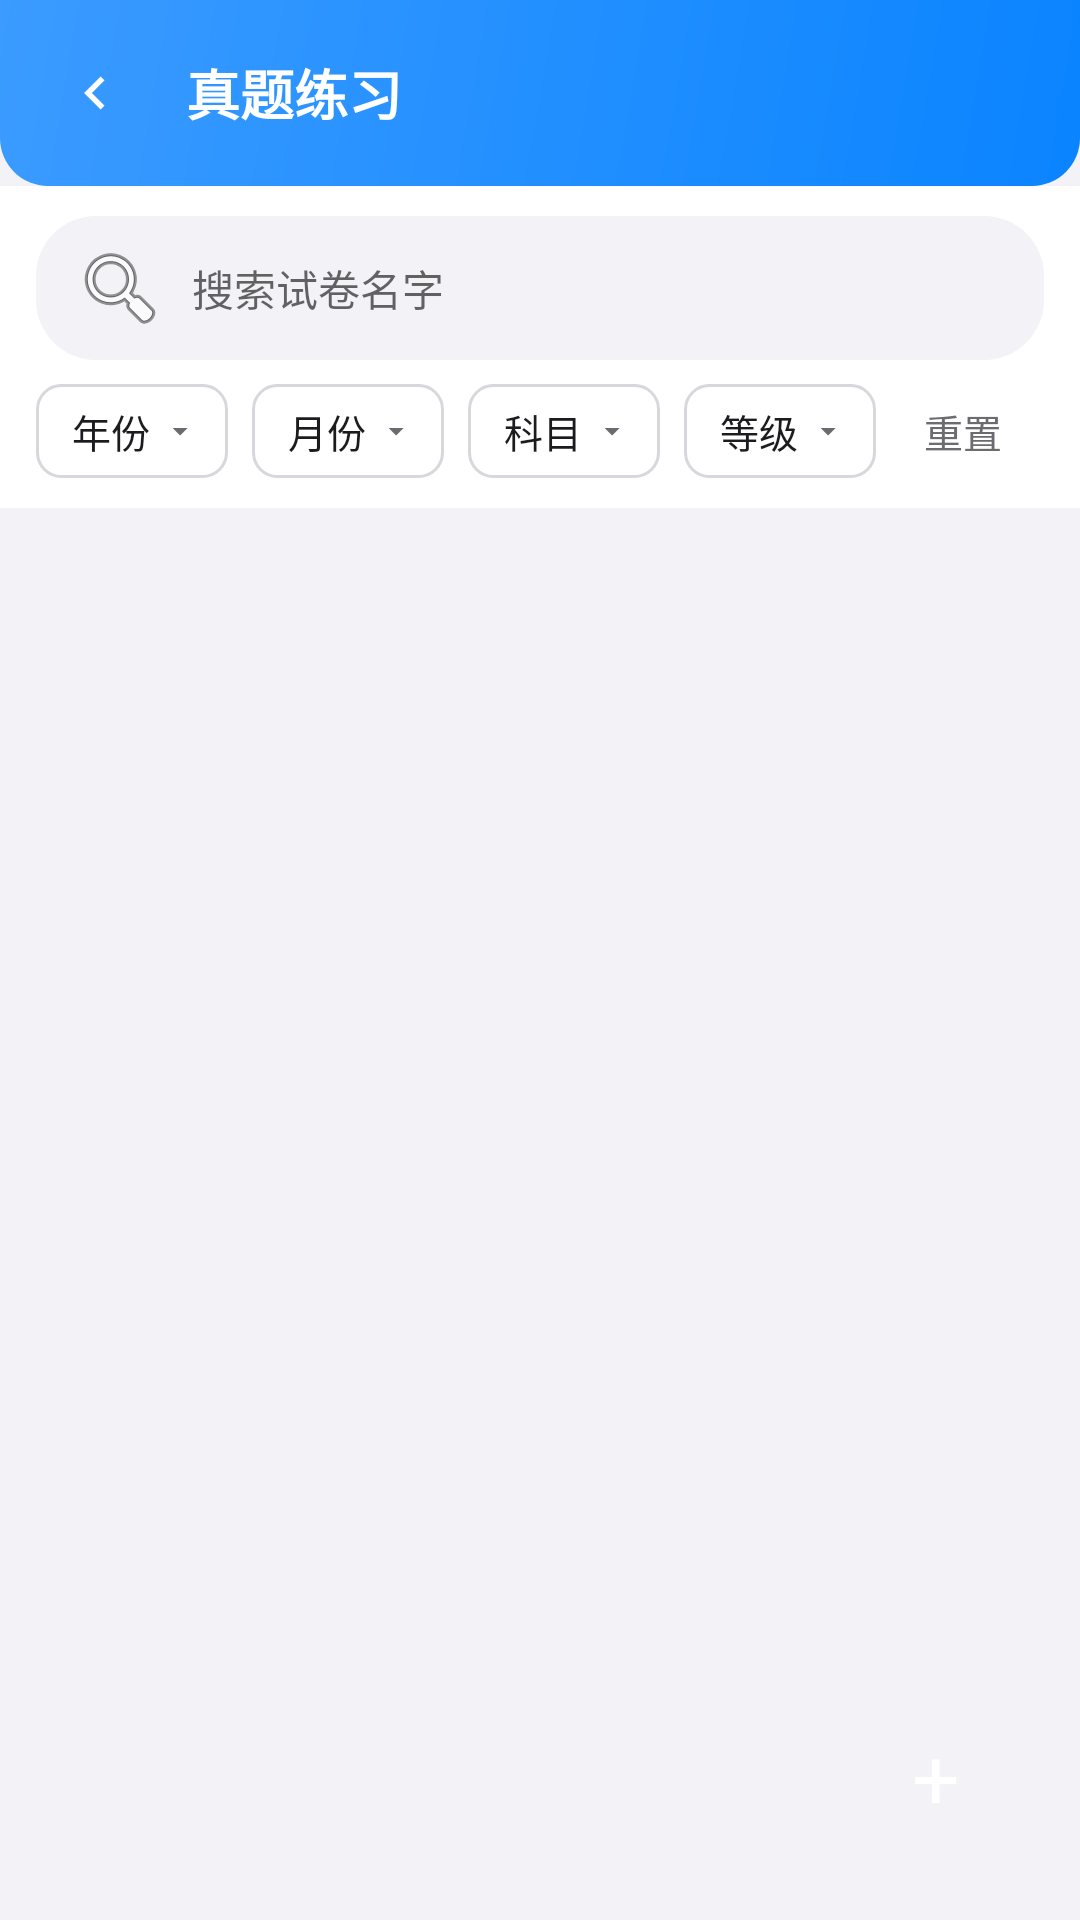

Icon click points for this 1080 x 1920 phone screenshot, format (x,y):
返回: (94,93)
